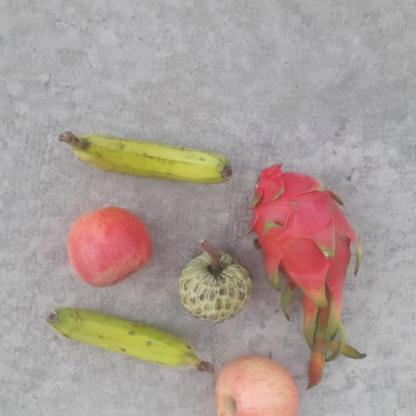annona: (177, 249, 255, 322)
apple: (65, 206, 153, 287), (212, 354, 302, 416)
banana: (46, 308, 217, 374), (64, 132, 235, 184)
pitaya: (249, 157, 361, 317)
